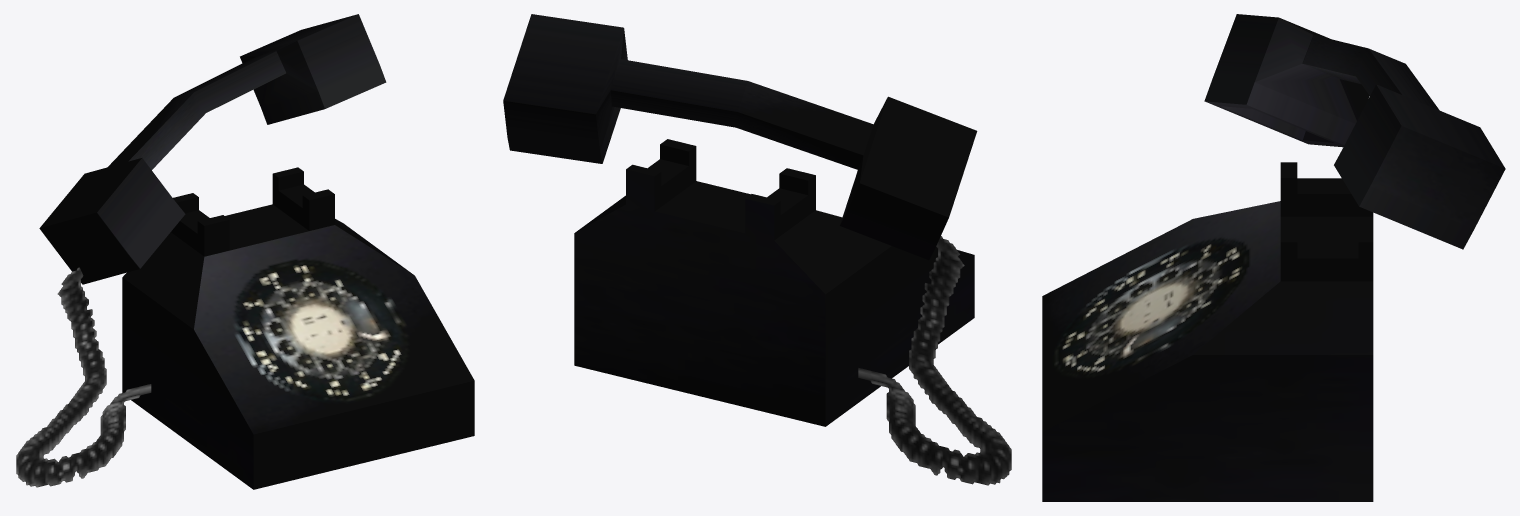
The model's file is rotary_phone.fbx.
3 views of the same model, side by side, from view 1: azimuth 30°, elevation 25°; view 2: azimuth 150°, elevation 25°; view 3: azimuth 270°, elevation 25° (orthographic). The views are drawn at different scales.
Parts seen in each view (by area): view 1: pad; view 2: pad; view 3: pad.
Boxes of the visible parts, x1,y1,x2,y2 form: pad: (16,14,474,489); pad: (503,14,1011,485); pad: (1042,14,1505,501).
Bounding box in the file's own units: 317 × 280 × 255.
Materials: 3 (3 with a texture image).
